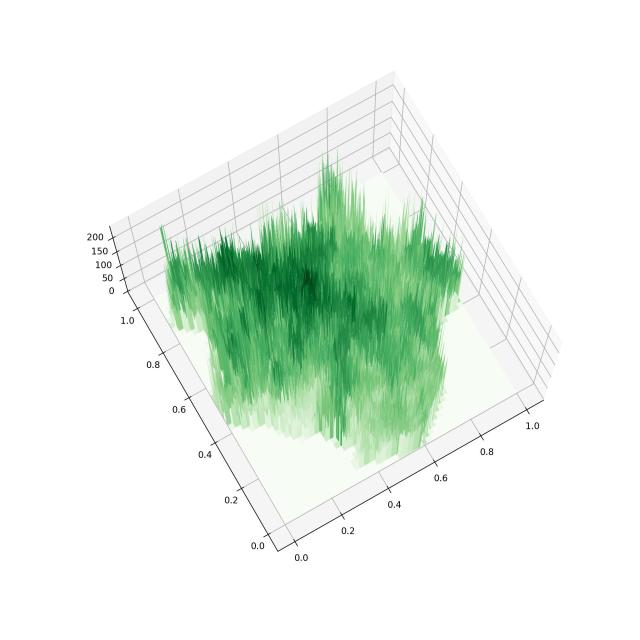trembling aspen: (75, 40, 609, 578)
